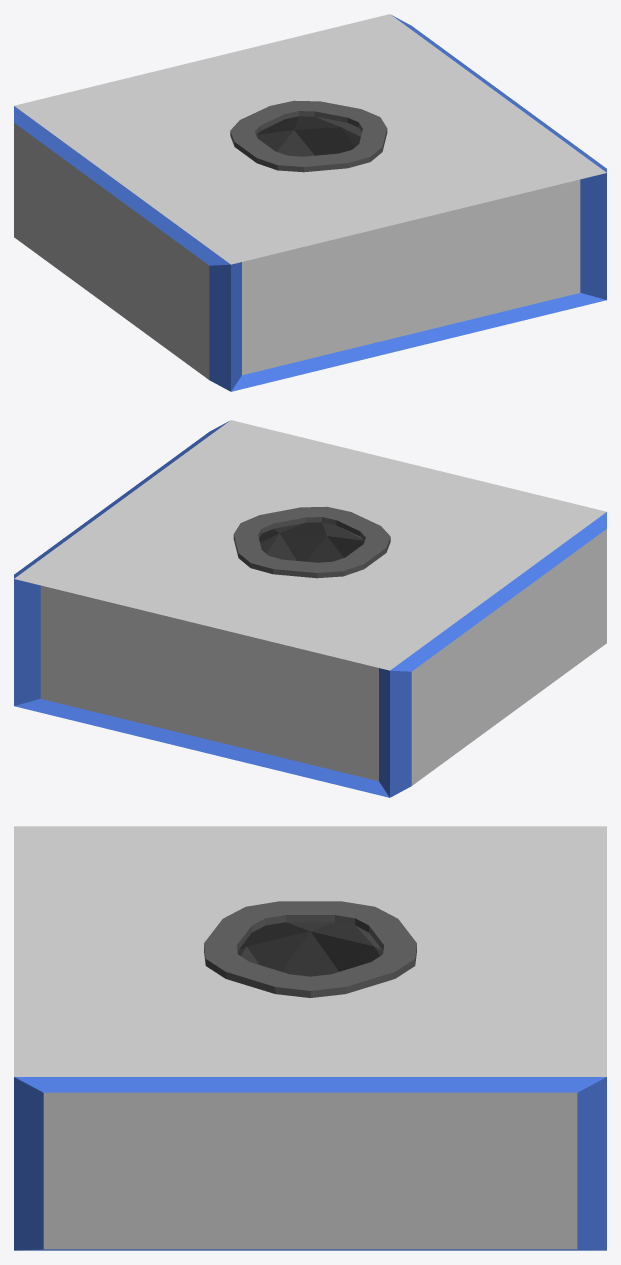
The model's file is block2.fbx.
3 renders of one model, top to bottom at view 1: azimuth 30°, elevation 25°; view 2: azimuth 150°, elevation 25°; view 3: azimuth 270°, elevation 25°, orthographic. The views are drawn at different scales.
Parts seen in each view (by area): view 1: Cube.006; view 2: Cube.006; view 3: Cube.006.
Part boxes in pixels (<box>): Cube.006: <box>14,14,606,391</box>; Cube.006: <box>14,420,606,797</box>; Cube.006: <box>14,826,606,1250</box>.
Size of the model in its own units: 654 by 216 by 618.
